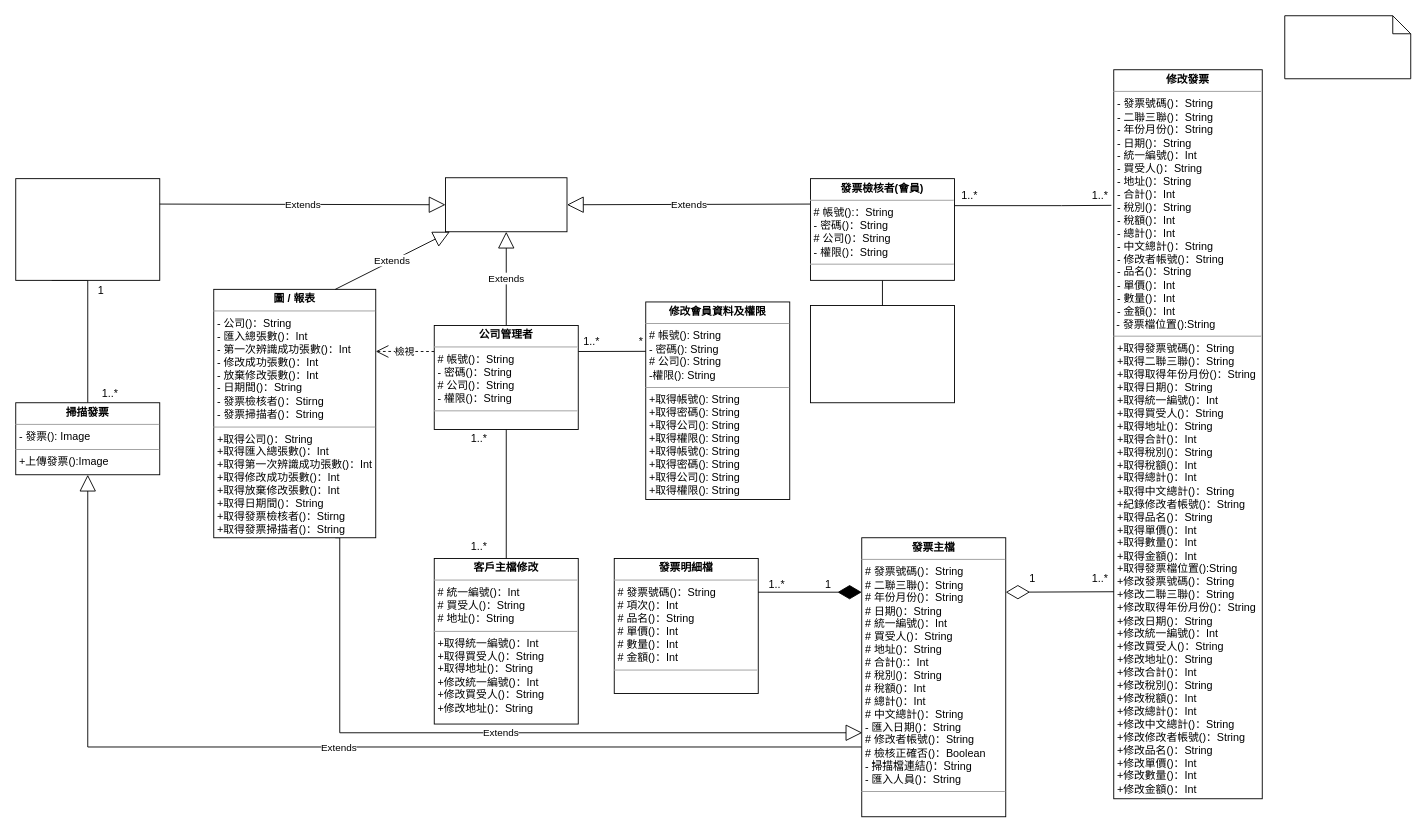
Image size: 1427x833. Some labels were removed from this diagram. The shapes that lost their labels are listed below. From the top down, each one's centre as x and y in pixels, then its label:
At point (1347, 47): "公司發票功能".
At point (506, 204): "公司員工".
At point (87, 229): "發票掃描者(會員) # 帳號()：String - 密碼()：String # 公司()：String - 權限()：String".
At point (882, 354): "使用者修改密碼 - 一次性密碼()：String - 新密碼()： String +取得密碼():String +修改密碼():String".
